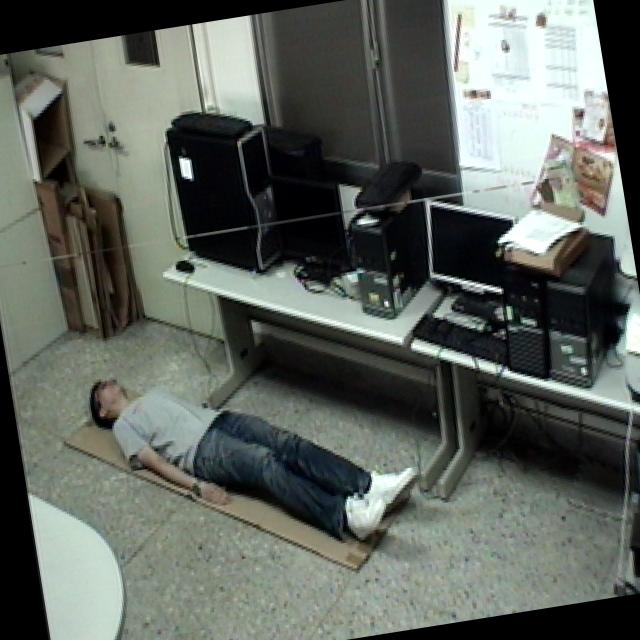lie: (76, 312, 438, 583)
